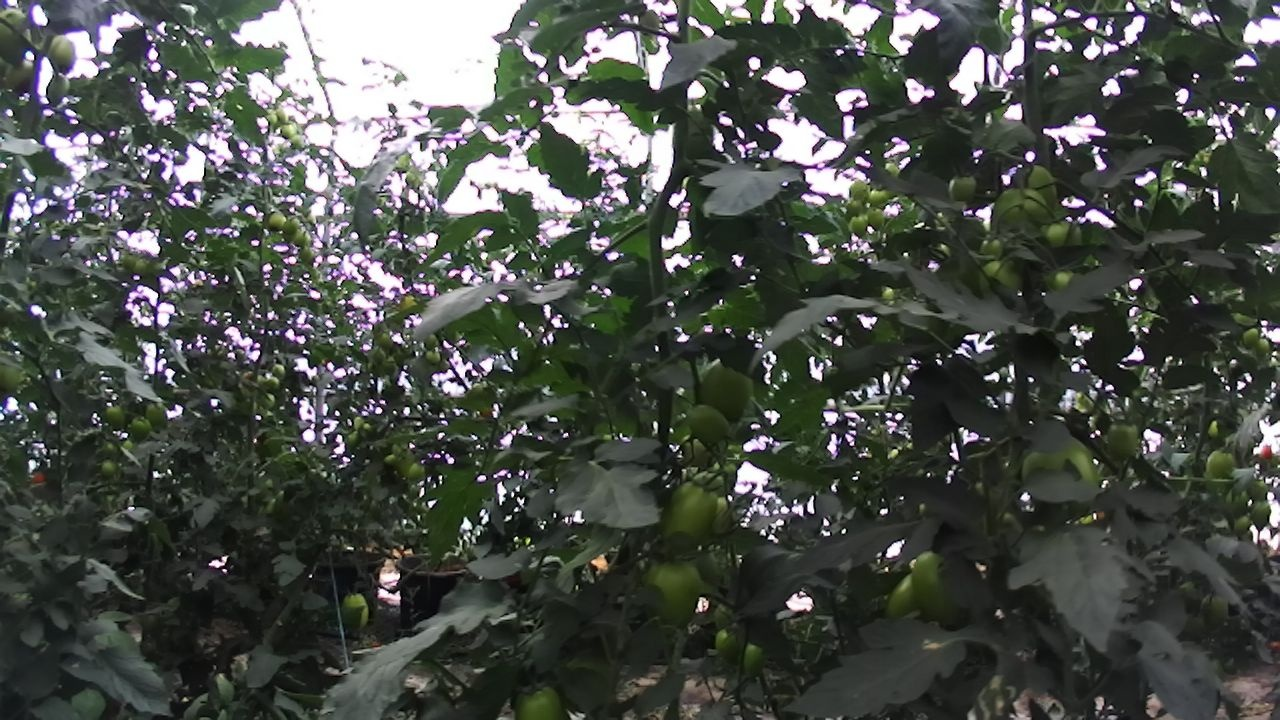tomato: (1012, 419, 1114, 530), (629, 547, 716, 646), (648, 465, 734, 560), (903, 541, 981, 637), (688, 345, 766, 432), (984, 174, 1062, 254), (665, 95, 725, 171), (498, 669, 584, 720), (679, 394, 744, 457), (1009, 157, 1069, 225), (972, 251, 1032, 310), (1037, 207, 1093, 263), (0, 3, 44, 73), (41, 28, 86, 83), (1101, 412, 1148, 464), (336, 582, 377, 641), (938, 163, 988, 211), (1193, 586, 1239, 638), (0, 48, 46, 100), (1196, 440, 1243, 490), (736, 635, 773, 684), (710, 619, 749, 665), (140, 396, 175, 436), (42, 70, 77, 110), (973, 229, 1009, 266), (1246, 494, 1275, 535), (124, 411, 156, 447), (100, 398, 131, 434), (845, 172, 874, 210), (1229, 509, 1259, 540), (1242, 474, 1272, 504), (364, 339, 393, 370), (1239, 321, 1265, 354), (847, 210, 874, 241), (864, 203, 890, 235), (1250, 332, 1274, 366), (864, 183, 892, 211), (841, 194, 870, 220), (264, 206, 290, 234), (404, 457, 429, 486), (277, 212, 303, 239), (288, 225, 314, 251), (98, 453, 121, 482), (371, 328, 396, 352), (276, 118, 300, 143), (257, 388, 280, 413), (420, 330, 443, 354), (262, 372, 285, 396), (423, 345, 445, 370), (268, 359, 290, 383), (272, 104, 292, 125), (262, 105, 280, 127), (1258, 440, 1275, 462)
